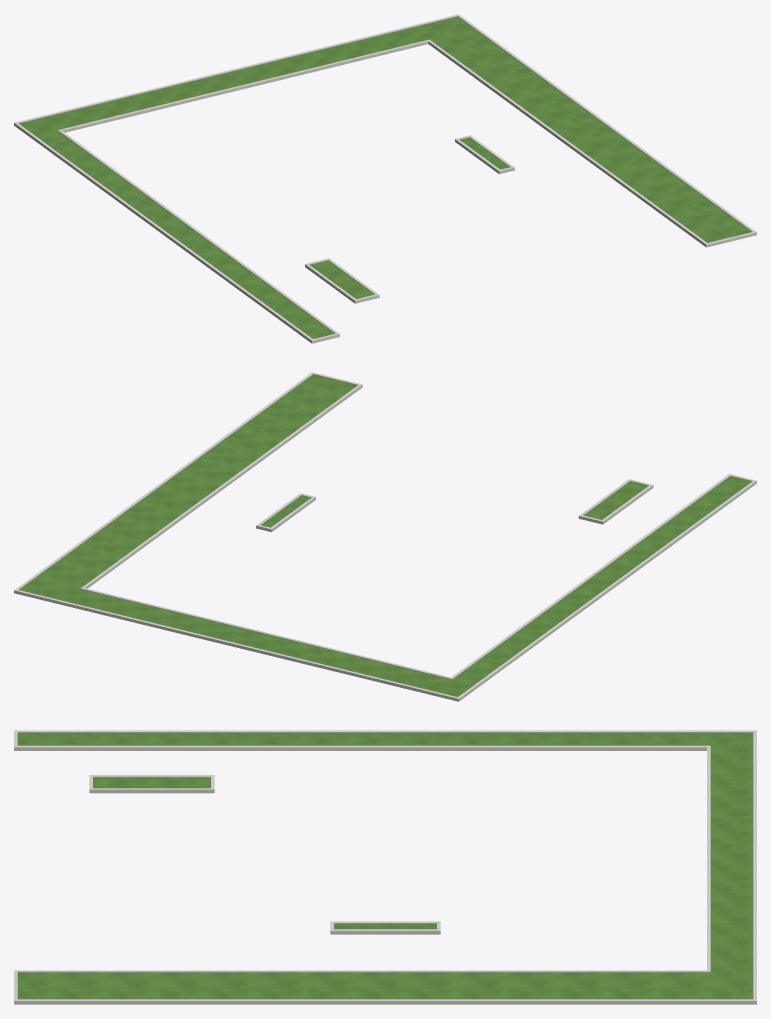
The model's file is lawn.glb.
3 renders of one model, top to bottom at view 1: azimuth 30°, elevation 25°; view 2: azimuth 150°, elevation 25°; view 3: azimuth 270°, elevation 25°, orthographic. The views are drawn at different scales.
Visible parts, largest first — view 1: lawn_grass, lawn_curb; view 2: lawn_grass, lawn_curb; view 3: lawn_grass, lawn_curb.
Part boxes in pixels (bbox=[...]): lawn_grass: bbox=[19, 16, 751, 338]; lawn_curb: bbox=[14, 14, 756, 343]; lawn_grass: bbox=[19, 374, 751, 696]; lawn_curb: bbox=[14, 372, 756, 701]; lawn_grass: bbox=[17, 732, 753, 999]; lawn_curb: bbox=[14, 730, 756, 1004].
Bounding box in the file's own units: 25.5 × 0.16 × 29.6.
2 materials, 1 textured.
